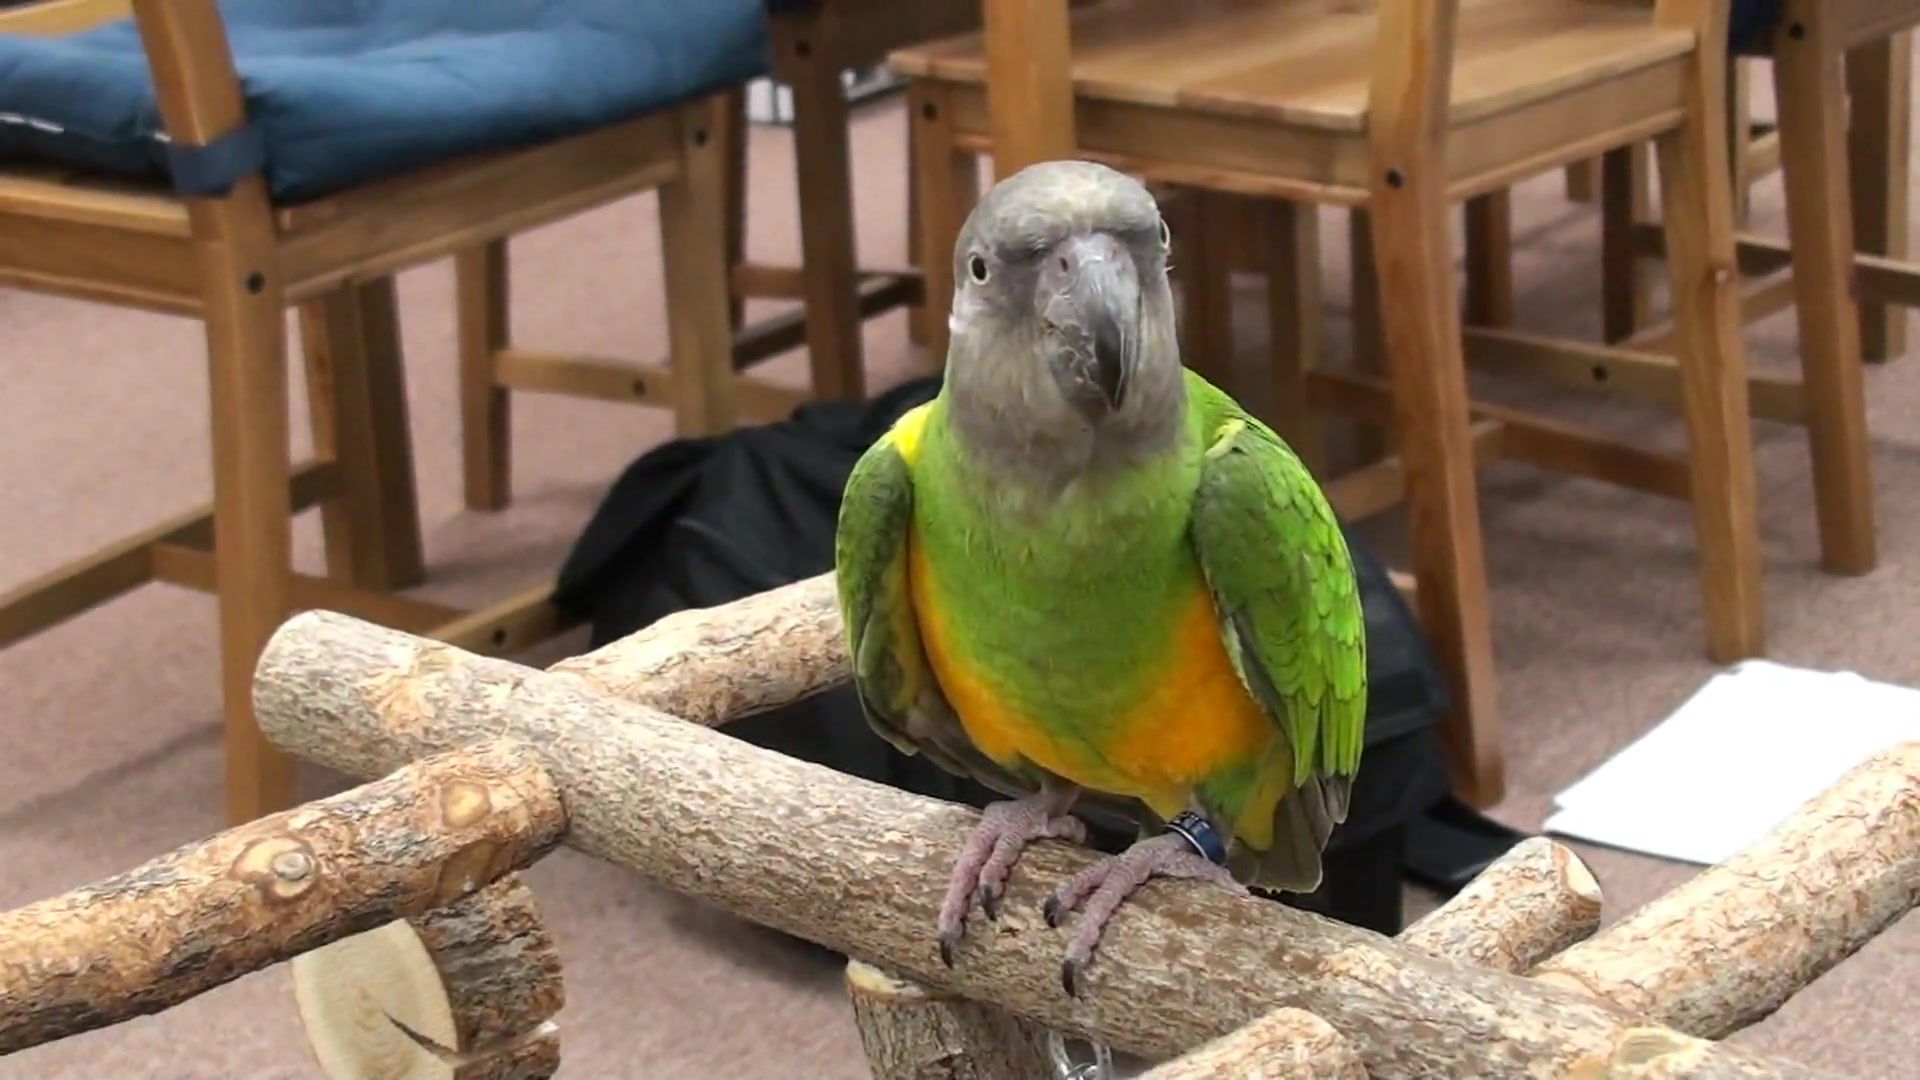bird: (837, 160, 1367, 1000)
